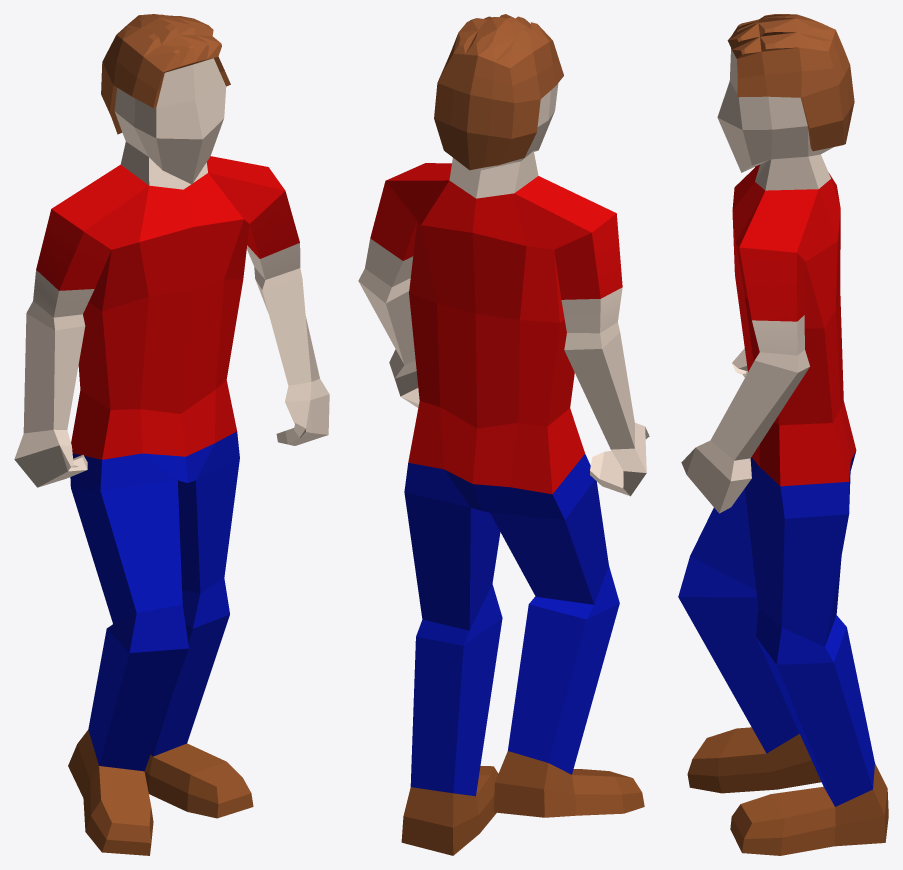
File: Human_walking_18.fbx
3 views of the same model, side by side, from view 1: azimuth 30°, elevation 25°; view 2: azimuth 150°, elevation 25°; view 3: azimuth 270°, elevation 25° (orthographic).
Parts seen in each view (by area): view 1: Person; view 2: Person; view 3: Person.
Boxes of the visible parts, x1=… form: Person: x1=14, y1=14, x2=329, y2=855; Person: x1=358, y1=14, x2=649, y2=855; Person: x1=678, y1=14, x2=888, y2=855.
Bounding box in the file's own units: 0.1197 × 0.3171 × 0.0752.
